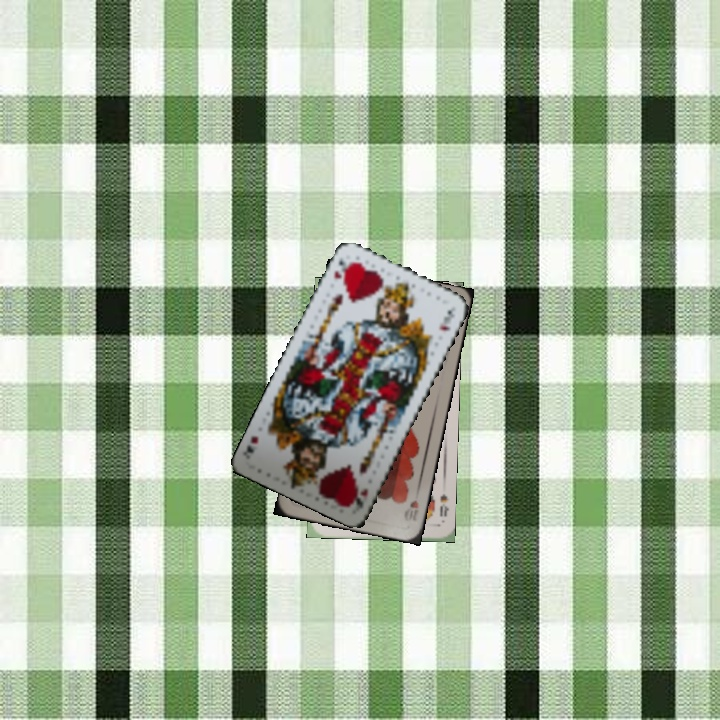H10: (405, 496, 421, 524)
HK: (348, 484, 371, 513), (329, 256, 353, 282)
S8: (436, 490, 451, 519)
